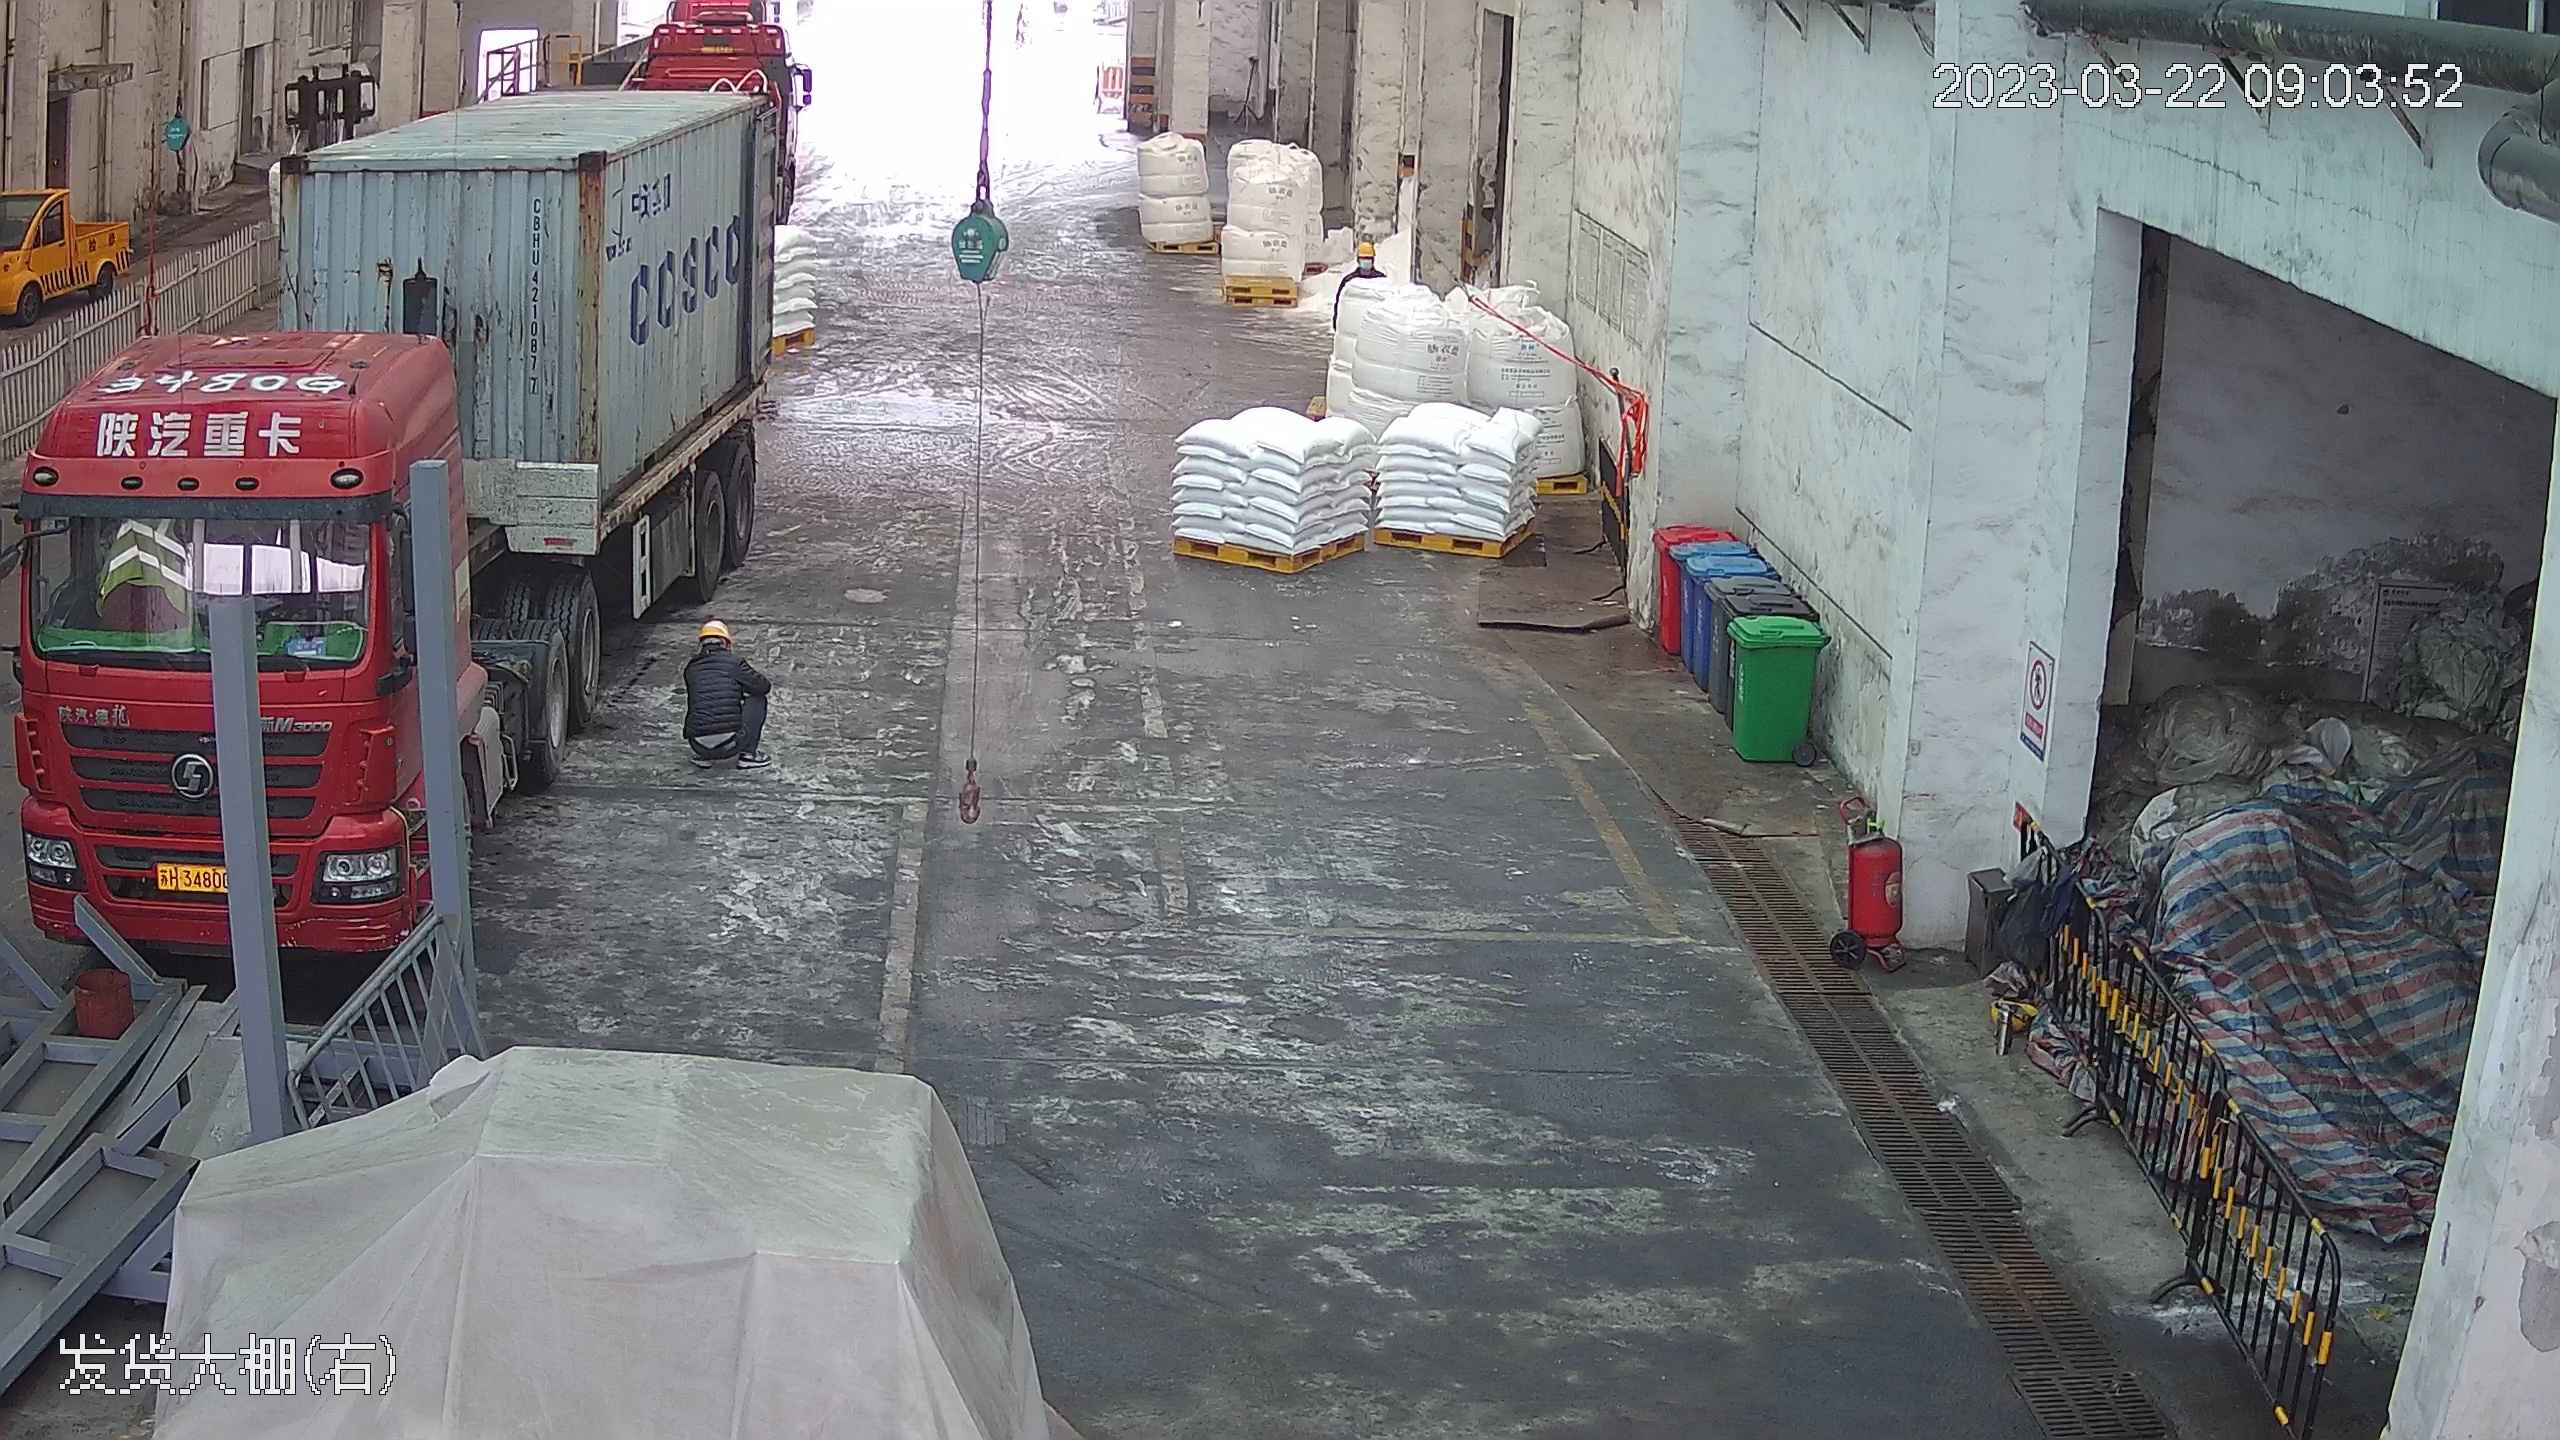head: (685, 619, 752, 686)
helmet: (694, 617, 733, 645), (1352, 237, 1382, 262)
people: (680, 615, 767, 767)
truck: (17, 20, 797, 971)
